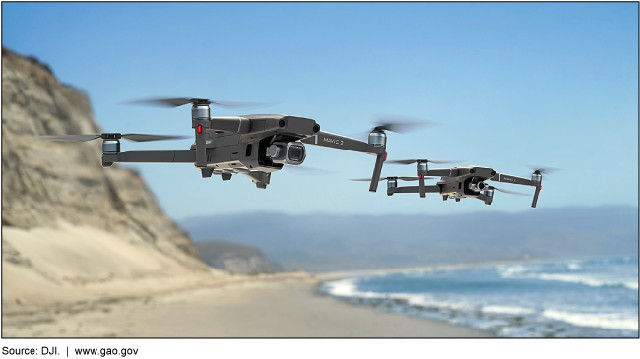maybay_khongnguoilai: (53, 85, 389, 186), (382, 148, 558, 218)
